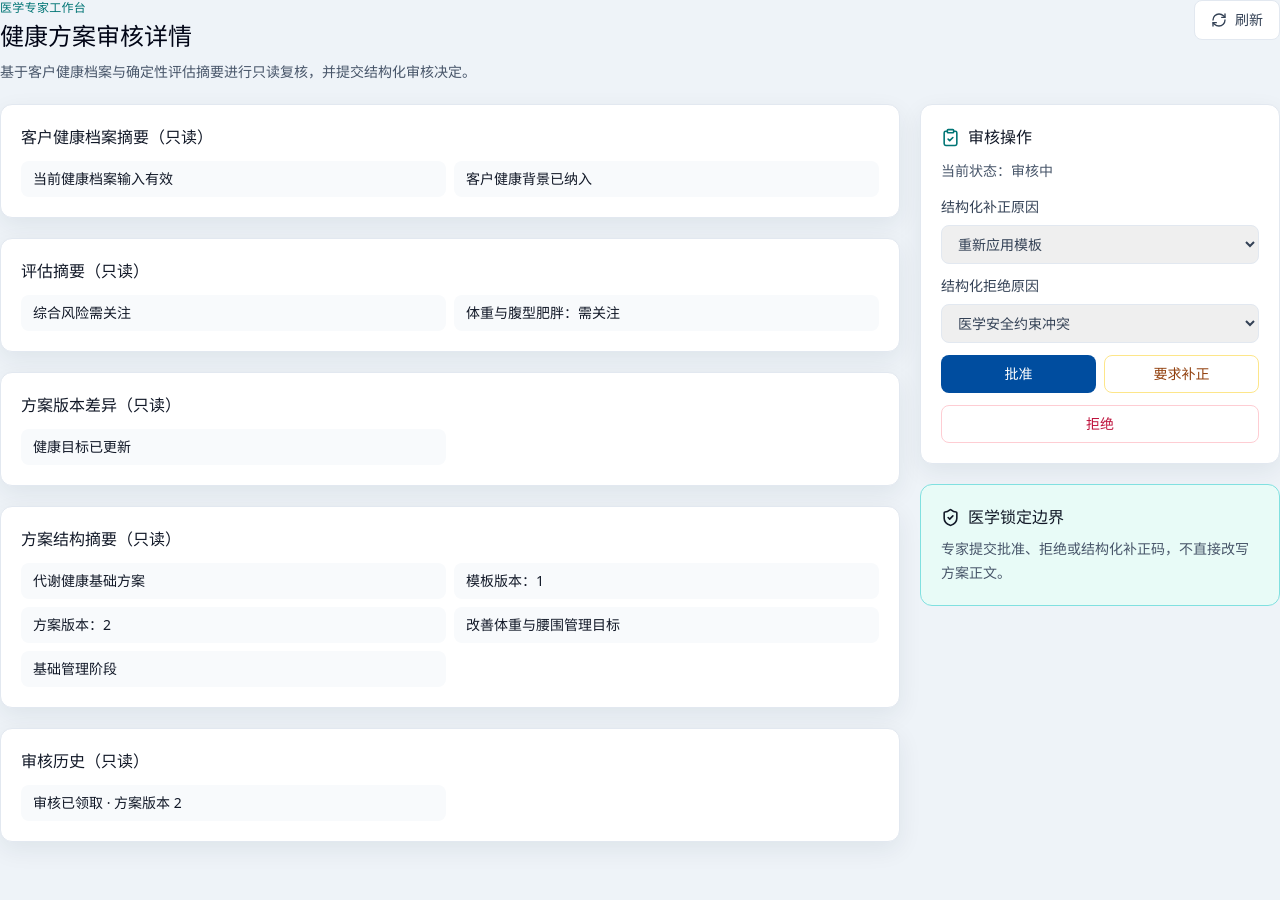
一期切片6平台模板与方案审核 › 409决定冲突刷新详情且不自动重放
The width and height of the screenshot is (1280, 900).
Expected: the heading "健康方案审核详情" is shown, [0,19,192,52]
Step 1. Select "重新应用模板" in the dropdown labelled "结构化补正原因" → coordinates (1100, 244), box [941,225,1259,264]
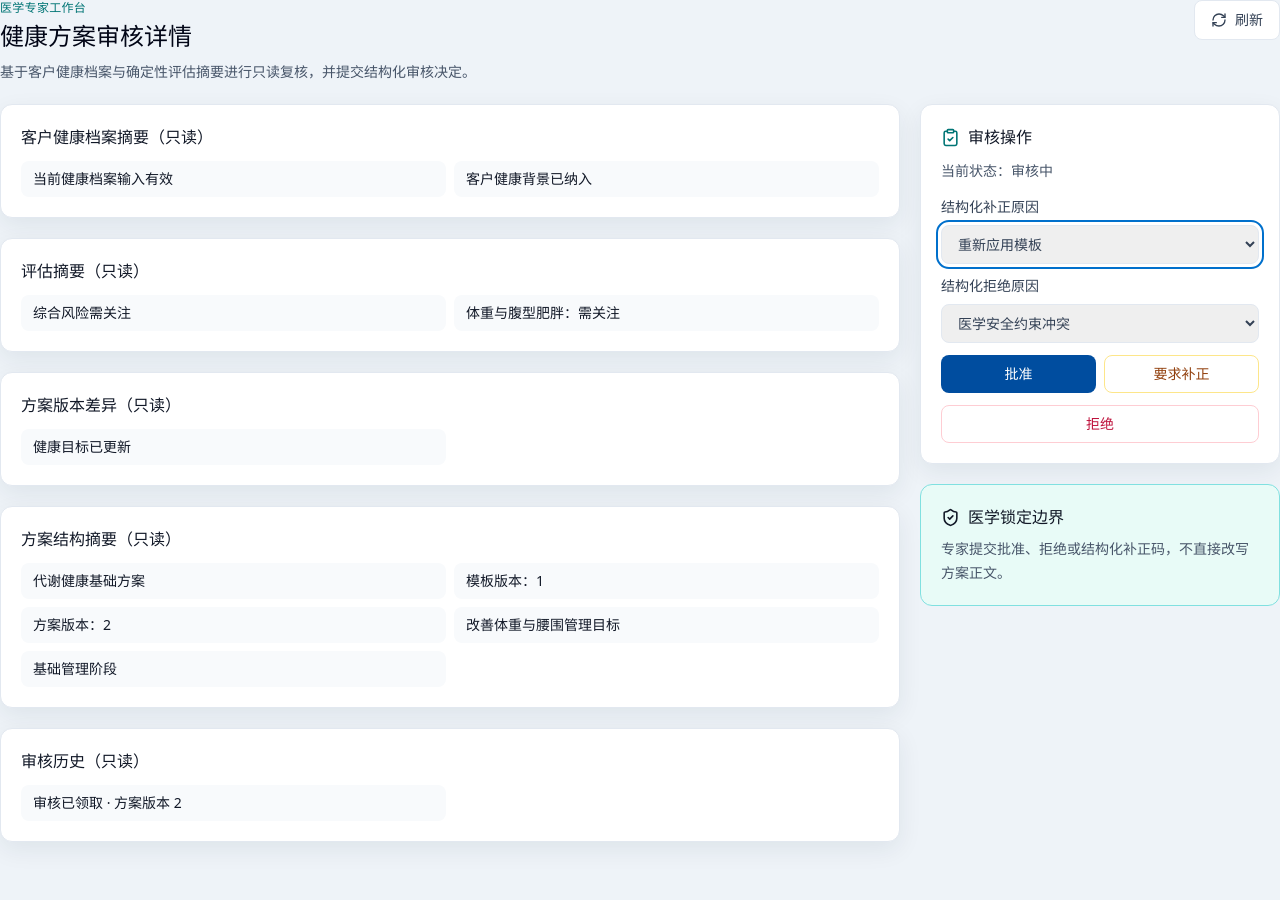
Step 2. Click the button "要求补正" → coordinates (1182, 374), box [1104,355,1259,393]
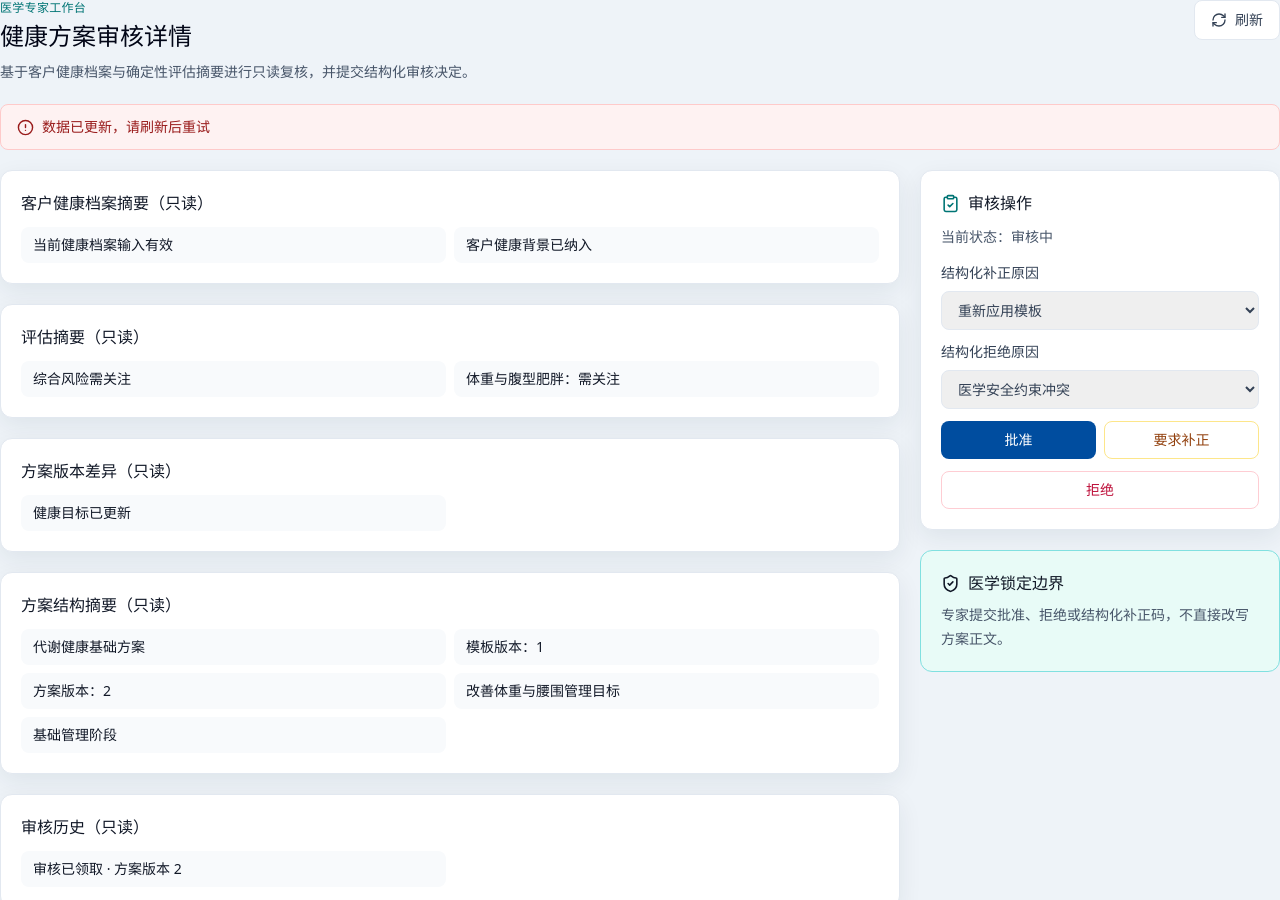
Expected: the text "数据已更新，请刷新后重试" is shown, [42,117,210,137]
